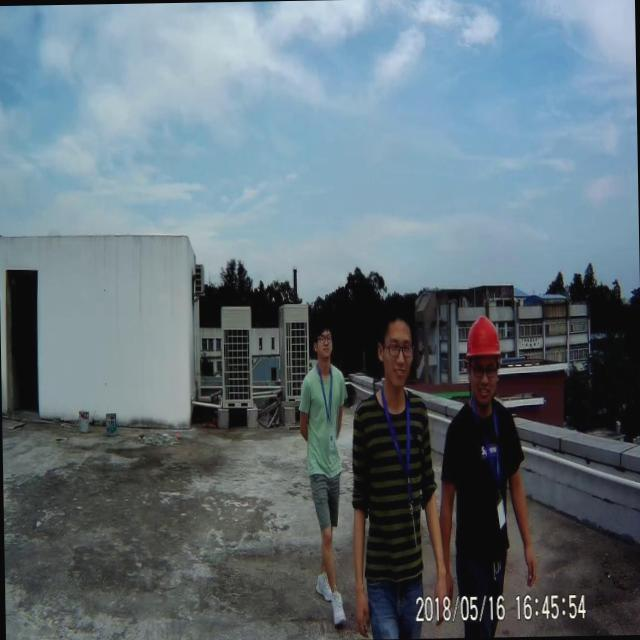helmet: (463, 314, 504, 360)
no-goggles: (382, 332, 417, 367), (469, 358, 502, 383), (316, 329, 334, 352)
no-helmet: (374, 286, 421, 356), (312, 312, 336, 348)
no-vest: (360, 401, 431, 584), (454, 410, 516, 577), (306, 371, 342, 474)
